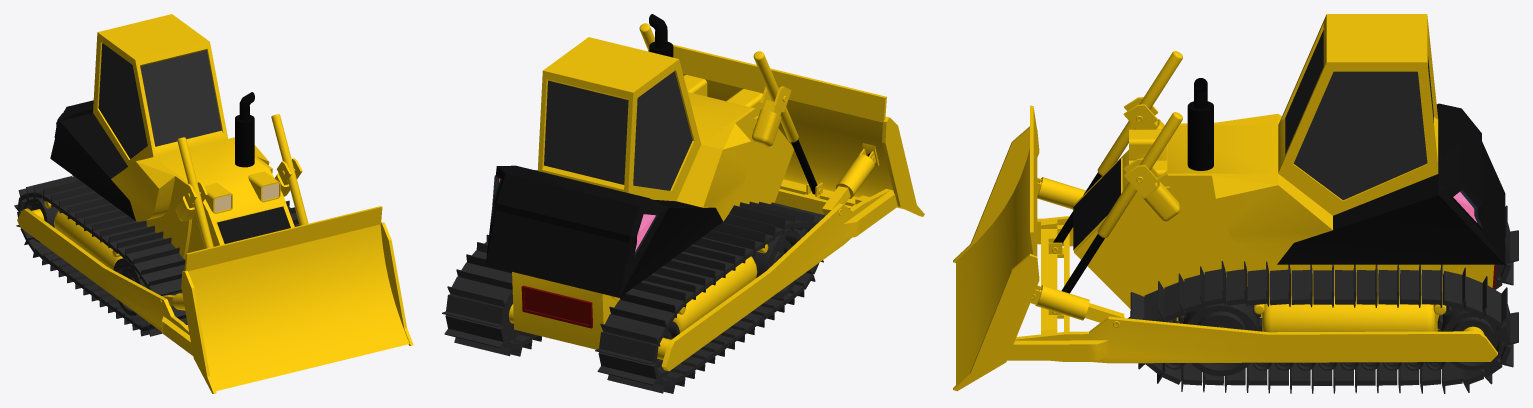
File: bulldozer.fbx
3 views of the same model, side by side, from view 1: azimuth 30°, elevation 25°; view 2: azimuth 150°, elevation 25°; view 3: azimuth 270°, elevation 25° (orthographic). The views are drawn at different scales.
Parts seen in each view (by area): view 1: Extrude_3, Main_Body, Front_Windwos, Cube_1_2, Back_Body, Windwos, Middle_Body, Extrude_3_2, Pipe1, Frame, Light, Cylinder_4 (+18 smaller); view 2: Back_Body, Main_Body, Extrude_3, Cube_1_2, BackWindows, Windwos, Middle_Body, Cube_1_34, Cube_1_33, Cube_1_35, Cylinder_4, Plate (+25 smaller); view 3: Main_Body, Cube_1_2, Back_Body, Windwos, Extrude_3, Middle_Body, Frame, Extrude_3_2, Cylinder_4, Pipe1, Cylinder, Arm (+25 smaller).
Boxes of the visible parts, <box> form: Extrude_3: <box>184,206,409,391</box>; Main_Body: <box>72,14,294,253</box>; Front_Windwos: <box>140,50,221,146</box>; Cube_1_2: <box>17,208,193,355</box>; Back_Body: <box>50,100,135,220</box>; Windwos: <box>98,43,147,158</box>; Middle_Body: <box>111,137,269,221</box>; Extrude_3_2: <box>181,222,413,393</box>; Pipe1: <box>177,114,308,248</box>; Frame: <box>146,138,272,259</box>; Light: <box>204,171,280,213</box>; Cylinder_4: <box>54,210,122,269</box>; Back_Body: <box>485,165,723,297</box>; Main_Body: <box>512,37,793,349</box>; Extrude_3: <box>648,44,902,208</box>; Cube_1_2: <box>661,179,897,371</box>; BackWindows: <box>544,80,628,184</box>; Windwos: <box>633,71,692,190</box>; Middle_Body: <box>676,123,751,221</box>; Cube_1_34: <box>442,294,658,364</box>; Cube_1_33: <box>444,315,660,385</box>; Cube_1_35: <box>447,276,666,346</box>; Cylinder_4: <box>673,256,757,333</box>; Plate: <box>521,285,592,328</box>; Main_Body: <box>1073,14,1494,331</box>; Cube_1_2: <box>1007,216,1497,363</box>; Back_Body: <box>1277,103,1505,264</box>; Windwos: <box>1294,71,1427,200</box>; Extrude_3: <box>956,105,1037,384</box>; Middle_Body: <box>1212,113,1332,264</box>; Frame: <box>1167,123,1479,292</box>; Extrude_3_2: <box>953,126,1039,391</box>; Cylinder_4: <box>1262,295,1435,332</box>; Pipe1: <box>1097,51,1182,237</box>; Cylinder: <box>1035,177,1124,322</box>; Arm: <box>1123,97,1179,221</box>.
Bounding box in the file's own units: 346 × 374 × 639.
